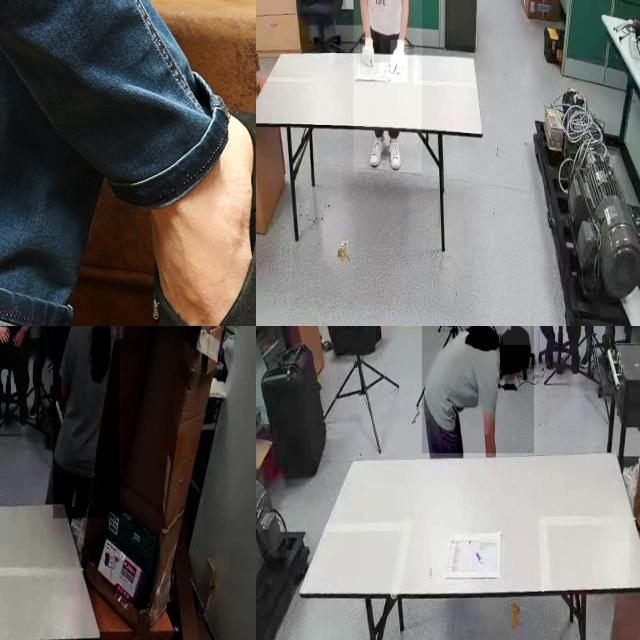Sandals: (133, 122, 256, 326)
hand_glove: (360, 32, 380, 75), (390, 40, 408, 83)
hand_noglove: (11, 327, 26, 349), (0, 326, 9, 344)
head_nohelmet: (503, 326, 531, 345)
person: (421, 326, 534, 454), (53, 326, 120, 519), (353, 0, 422, 172), (0, 326, 38, 426), (539, 326, 596, 378)
shoes: (368, 132, 385, 170), (387, 134, 402, 176), (542, 334, 557, 372), (580, 336, 595, 370)
